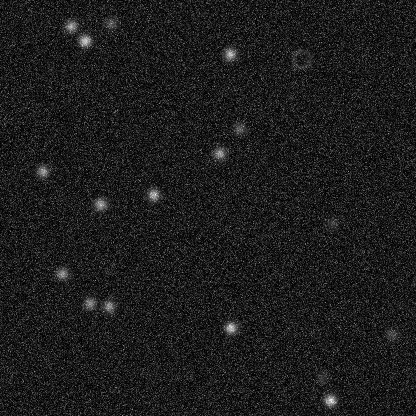Ring: (289, 46, 313, 70)
Spot: (322, 392, 338, 408), (54, 265, 70, 281), (211, 145, 227, 161), (231, 120, 247, 136), (100, 298, 116, 314), (222, 319, 238, 335), (76, 32, 92, 48), (324, 215, 340, 231), (63, 18, 79, 34), (34, 163, 50, 179), (314, 369, 330, 385), (102, 15, 118, 31), (81, 294, 97, 310), (384, 326, 400, 342), (145, 186, 161, 202), (92, 196, 108, 212), (222, 46, 238, 62)
